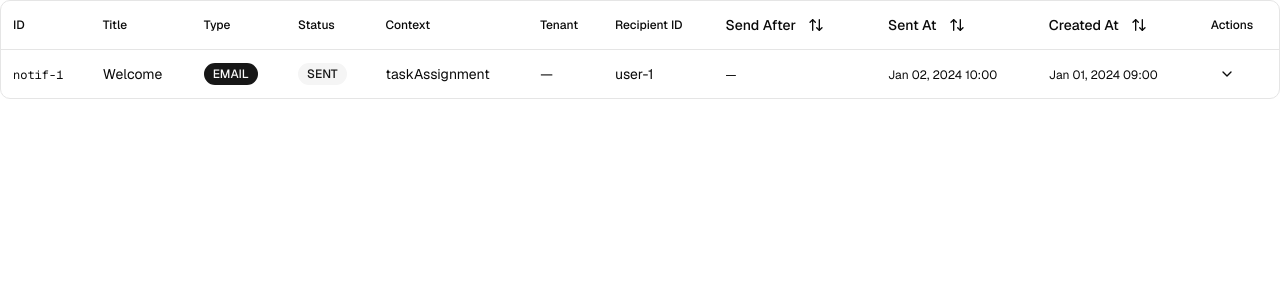
Test case: resend availability › offers Resend for a SENT user notification
Click the button named "Open menu". click: (1227,74)
box: [1211,58,1243,90]
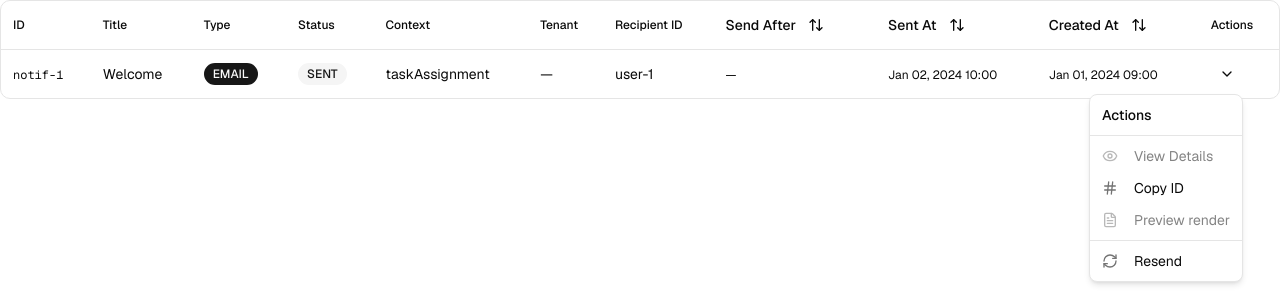
Expected: the menu item with test id "resend-notif-1" is shown, [1102,252,1182,270]
